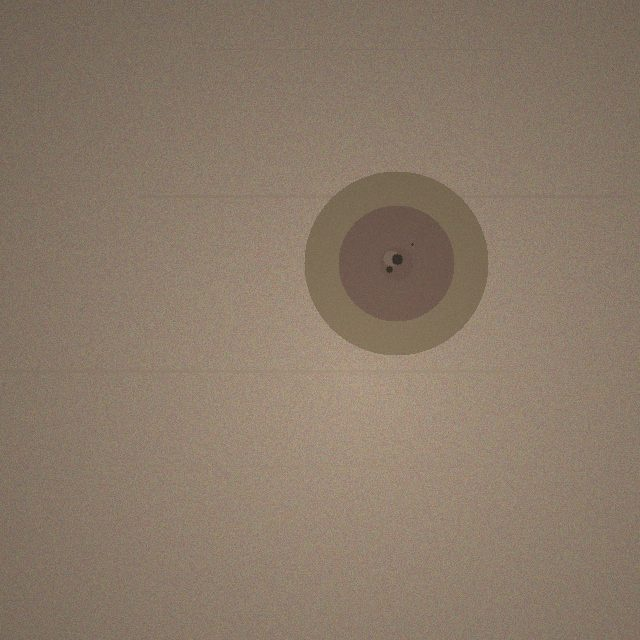shrinkage: (304, 171, 488, 355)
